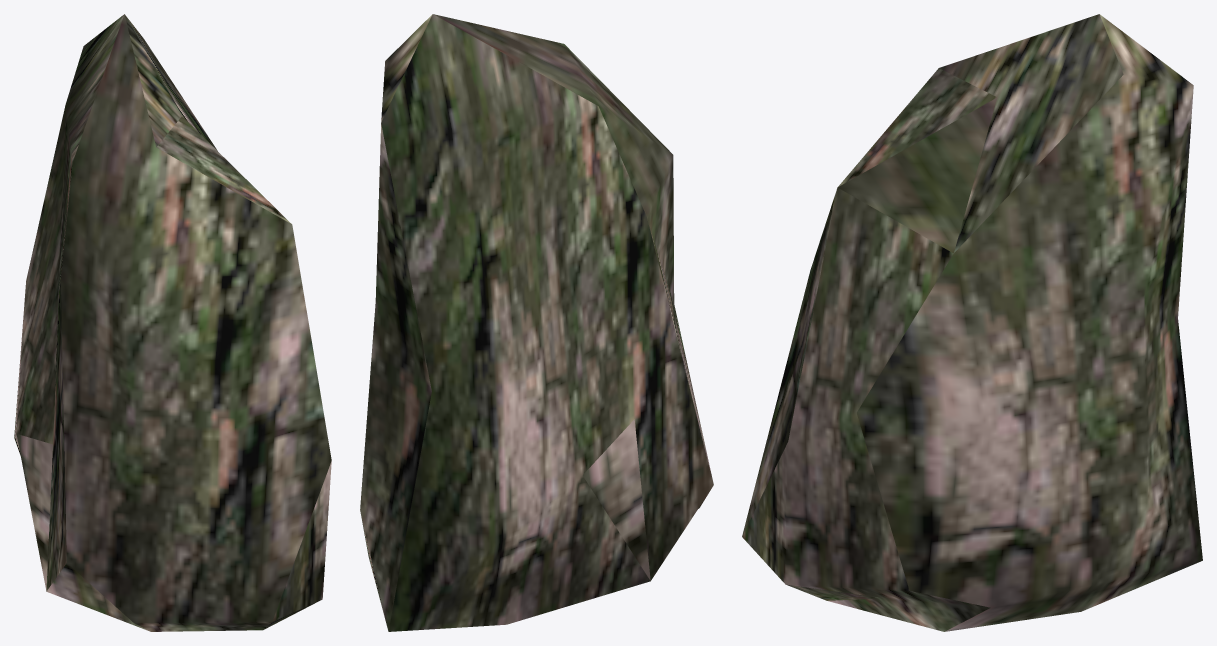
The picture shows the model from 3 angles, left to right: view 1: azimuth 30°, elevation 25°; view 2: azimuth 150°, elevation 25°; view 3: azimuth 270°, elevation 25°; orthographic projection. The views are drawn at different scales.
Visible parts, largest first — view 1: Object33; view 2: Object33; view 3: Object33.
Boxes of the visible parts, left/top/right/bottom form: Object33: left=14, top=14, right=331, bottom=631; Object33: left=360, top=14, right=713, bottom=631; Object33: left=742, top=14, right=1202, bottom=631.
Bounding box in the file's own units: 134 × 287 × 201.
